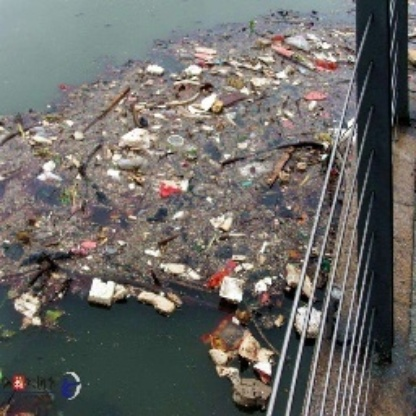plastic-bag: (205, 316, 255, 359)
plastic-garbage: (87, 277, 114, 308)
